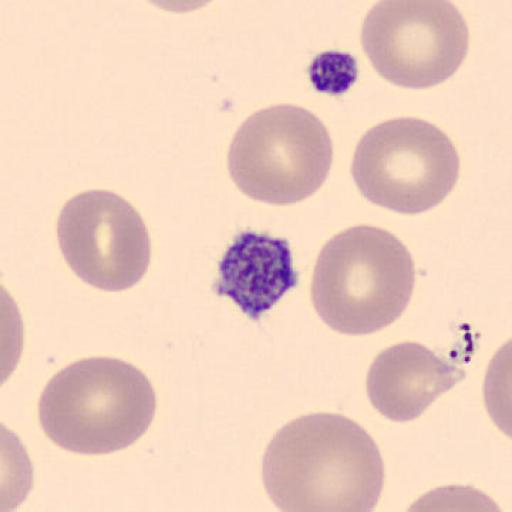Platelet: (208, 226, 303, 321), (302, 45, 362, 99)
RBC: (259, 411, 387, 511), (36, 354, 159, 458), (307, 222, 417, 338), (348, 114, 462, 217), (226, 102, 336, 208), (358, 0, 471, 92), (54, 188, 152, 294), (364, 339, 462, 424), (480, 334, 512, 446), (1, 420, 35, 512), (400, 482, 504, 512), (1, 283, 25, 391), (128, 0, 230, 16)
